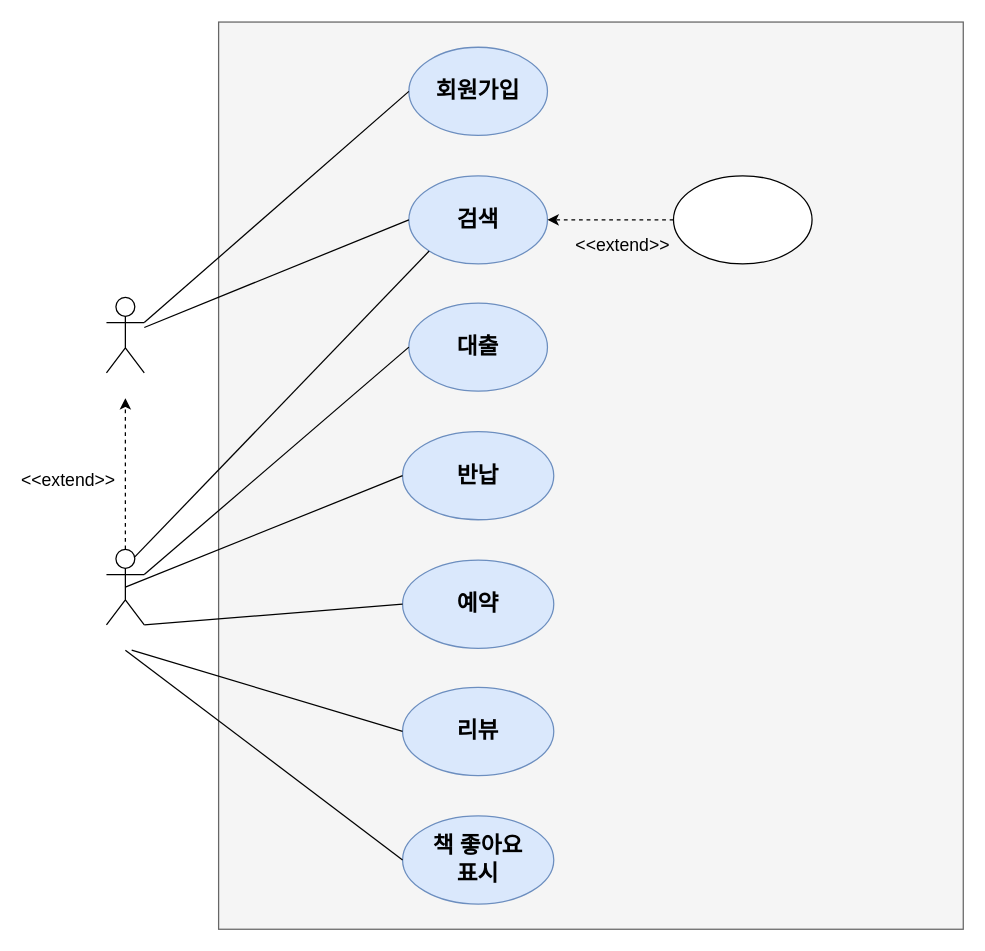
The diagram is 985 pixels wide and 951 high, and some of its shapes have lost their labels. The centre of each missing label's shape, as x and y in pixels:
상세조회: (742,219)
이용자: (124,334)
회원: (124,586)
